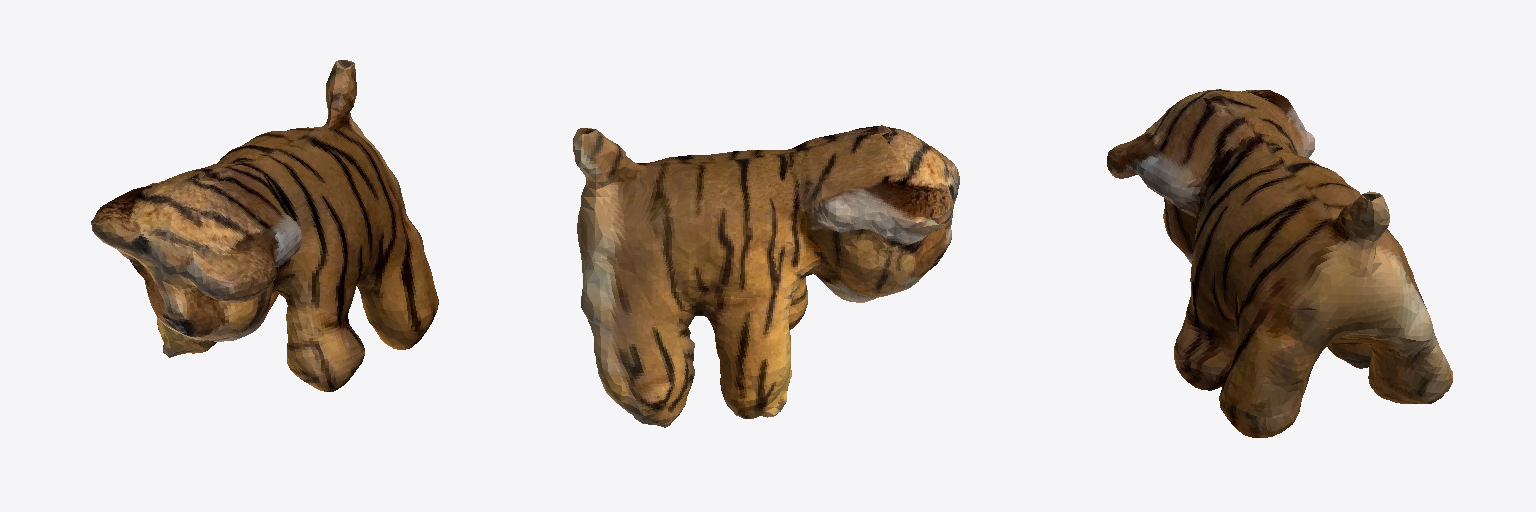
The picture shows the model from 3 angles: view 1: azimuth 30°, elevation 25°; view 2: azimuth 150°, elevation 25°; view 3: azimuth 270°, elevation 25°; orthographic projection.
Bounding box in the file's own units: 0.1366 × 0.0964 × 0.1199.
Materials: 1 (1 with a texture image).